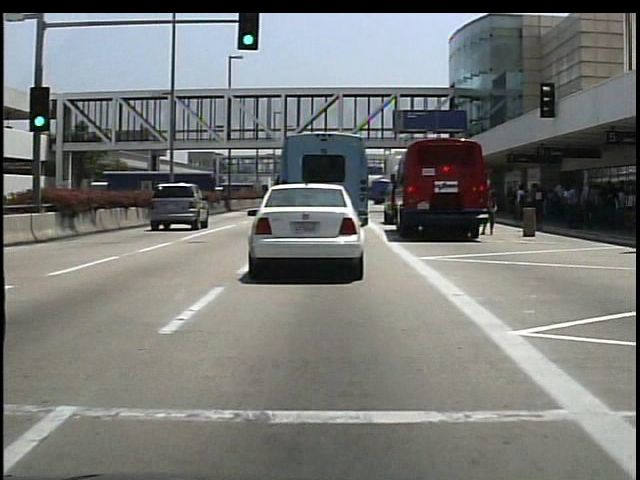person: (483, 188, 496, 238)
